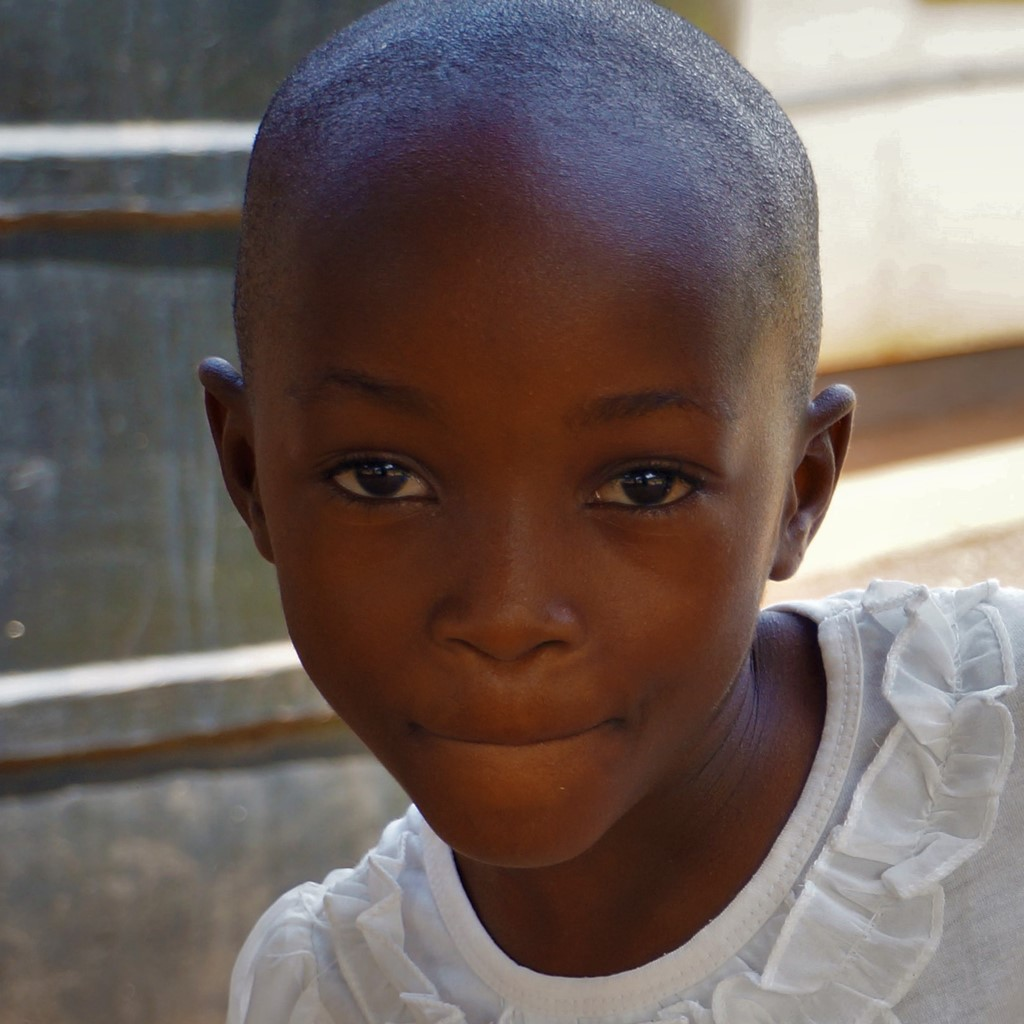sin_mascara: (187, 19, 853, 877)
